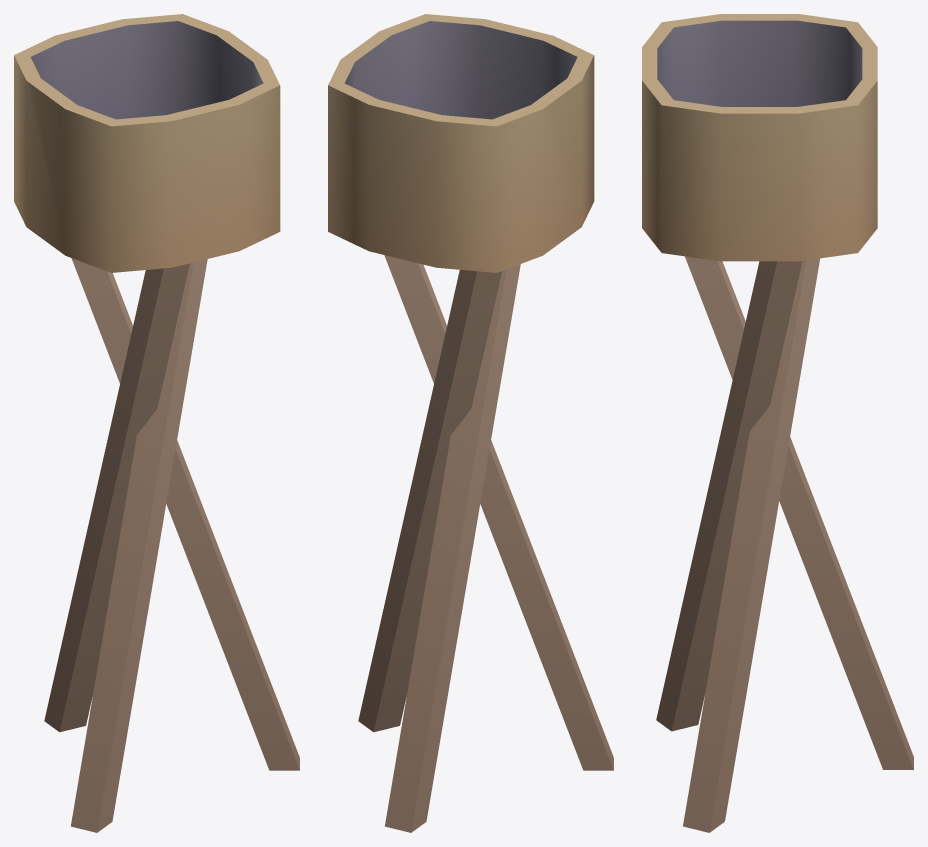
File: lamp-fancy-tripod.glb
3 renders of one model, left to right at view 1: azimuth 30°, elevation 25°; view 2: azimuth 150°, elevation 25°; view 3: azimuth 270°, elevation 25°, orthographic.
Visible parts, largest first — view 1: lamp-fancy-tripod; view 2: lamp-fancy-tripod; view 3: lamp-fancy-tripod.
Boxes of the visible parts, x1,y1,x2,y2 form: lamp-fancy-tripod: (14, 14, 299, 832); lamp-fancy-tripod: (328, 14, 613, 832); lamp-fancy-tripod: (642, 14, 913, 832).
Size of the model in its own units: 0.458 by 1.26 by 0.4412.
